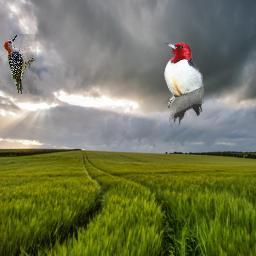Woodpecker: (162, 42, 205, 128), (2, 34, 37, 94)
